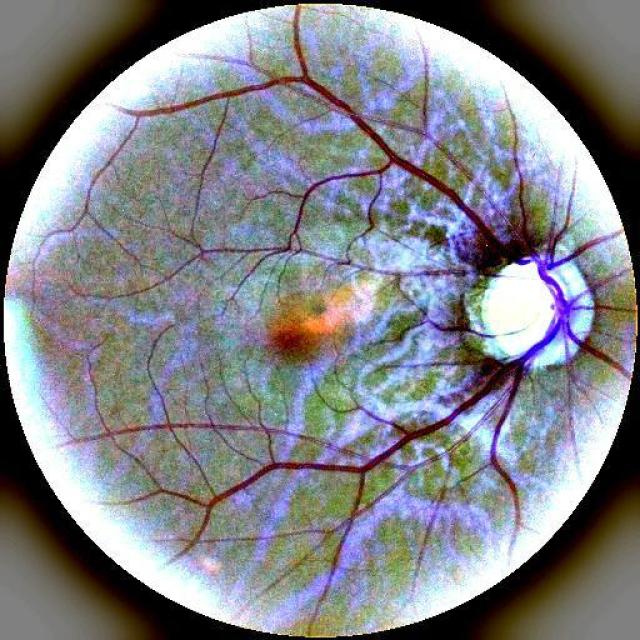Macula: (182, 61, 584, 603), (248, 301, 337, 378)
Optic Disk: (427, 226, 611, 391)
